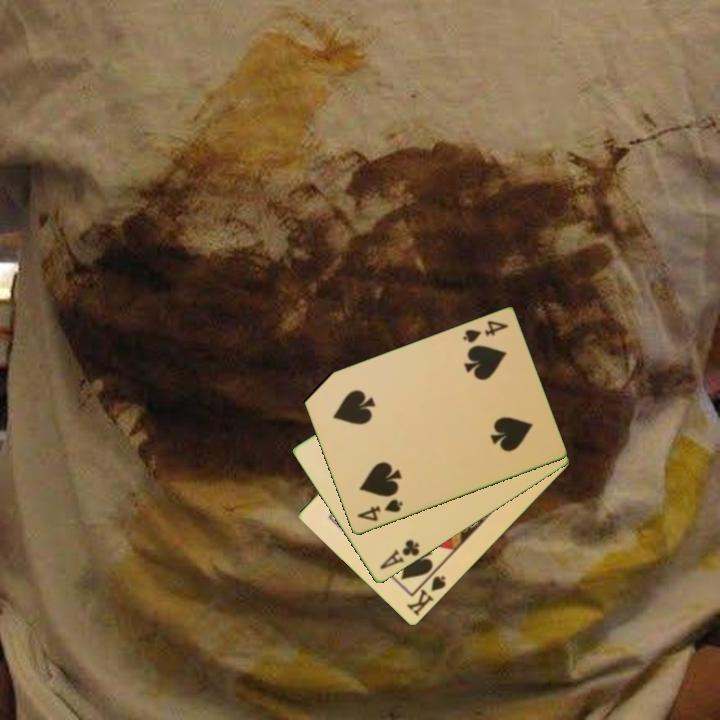4s: (459, 317, 511, 346), (353, 496, 406, 524)
Ac: (376, 536, 422, 573)
Ks: (403, 572, 449, 619)
